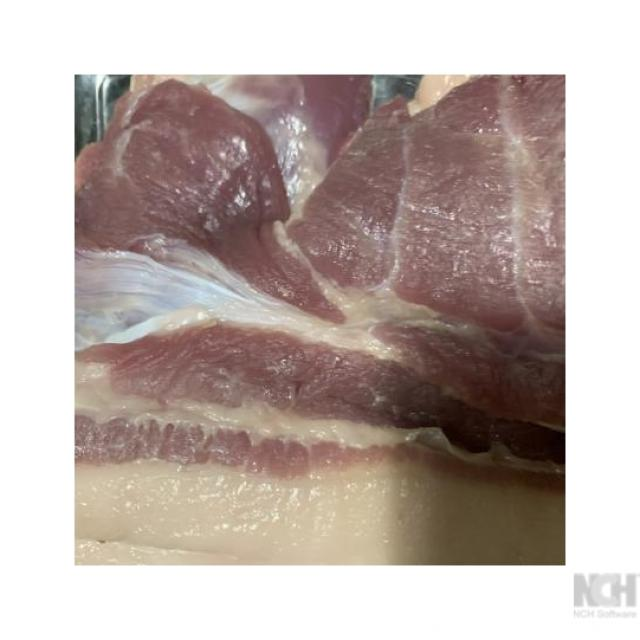rotten meat: (47, 52, 595, 572)
